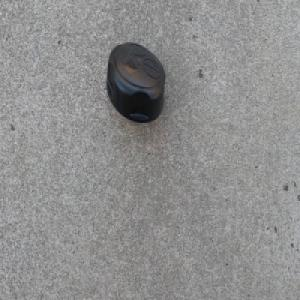FuelCap: (105, 41, 166, 128)
